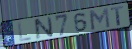6: (73, 12, 89, 33)
7: (54, 14, 69, 37)
L: (17, 21, 33, 43)
M: (88, 7, 112, 31)
N: (33, 15, 55, 41)
T: (110, 5, 124, 27)
